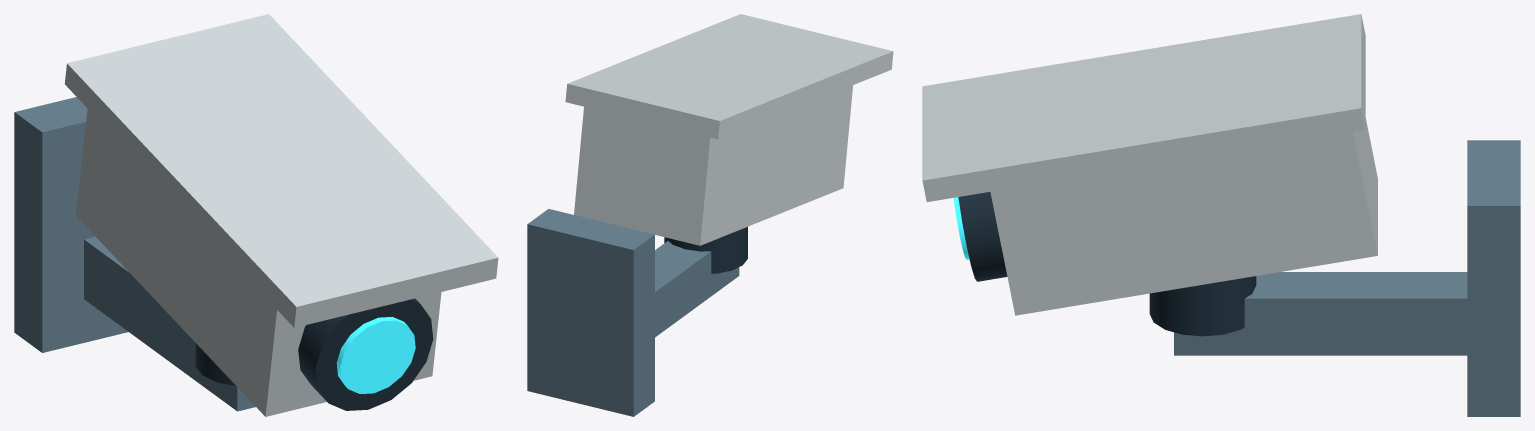
The model's file is wall-camera.09c9e56ebc83.glb.
3 views of the same model, side by side, from view 1: azimuth 30°, elevation 25°; view 2: azimuth 150°, elevation 25°; view 3: azimuth 270°, elevation 25° (orthographic). The views are drawn at different scales.
Parts seen in each view (by area): view 1: rain_hood_0005, housing_0004, wall_mount_0001, bracket_0002, lens_body_0006, lens_glass_0007, swivel_0003; view 2: housing_0004, wall_mount_0001, rain_hood_0005, bracket_0002, swivel_0003; view 3: rain_hood_0005, housing_0004, bracket_0002, wall_mount_0001, swivel_0003, lens_body_0006.
Part boxes in pixels (x1,y1,x2,y2): rain_hood_0005: (64, 14, 498, 327); housing_0004: (76, 109, 441, 416); wall_mount_0001: (14, 97, 128, 352); bracket_0002: (84, 236, 255, 411); lens_body_0006: (298, 298, 433, 410); lens_glass_0007: (336, 317, 415, 393); swivel_0003: (195, 343, 235, 386); housing_0004: (574, 85, 852, 245); wall_mount_0001: (527, 209, 654, 416); rain_hood_0005: (565, 14, 893, 139); bracket_0002: (655, 241, 739, 337); swivel_0003: (664, 227, 747, 273); rain_hood_0005: (922, 14, 1365, 201); housing_0004: (990, 118, 1377, 315); bracket_0002: (1174, 272, 1467, 355); wall_mount_0001: (1467, 140, 1520, 416); swivel_0003: (1149, 276, 1256, 336); lens_body_0006: (958, 192, 1007, 281).
Bounding box in the file's own units: 0.23 × 0.3675 × 0.6167.
